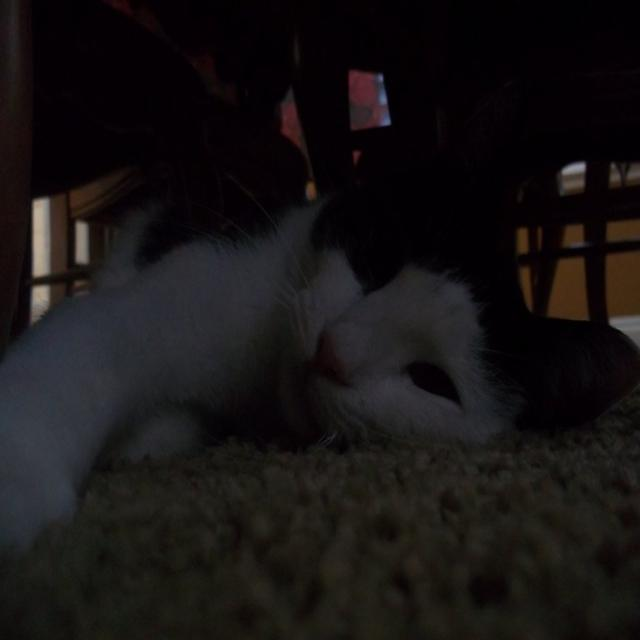Cat: (10, 54, 640, 559)
